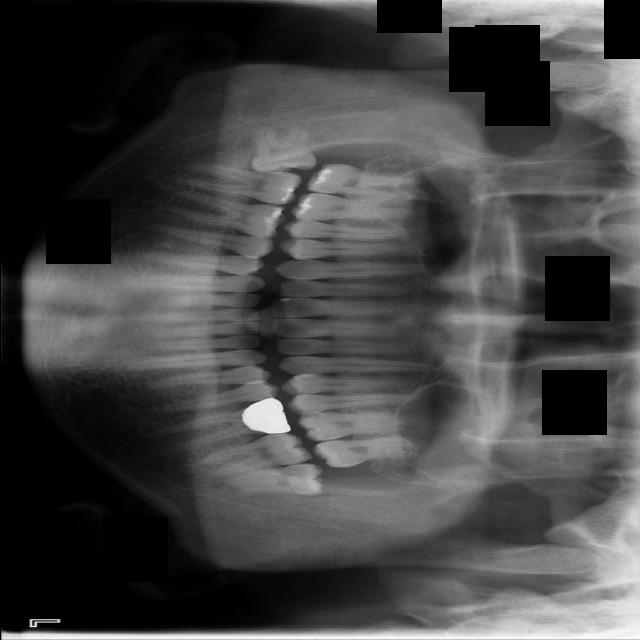52: (236, 395, 291, 444), (236, 194, 288, 245), (248, 163, 303, 211), (305, 160, 363, 196), (290, 192, 343, 221), (270, 298, 326, 318)
73: (70, 615, 76, 620)
BioHorizons Implant: (310, 434, 420, 470)
Biomet 3i Implant: (227, 463, 324, 495)
Blue Sky Bio Implant: (196, 427, 313, 480)
Caries: (305, 161, 417, 201)
Implant: (179, 161, 303, 208)
Keystone Dental Implant: (251, 125, 315, 175)
